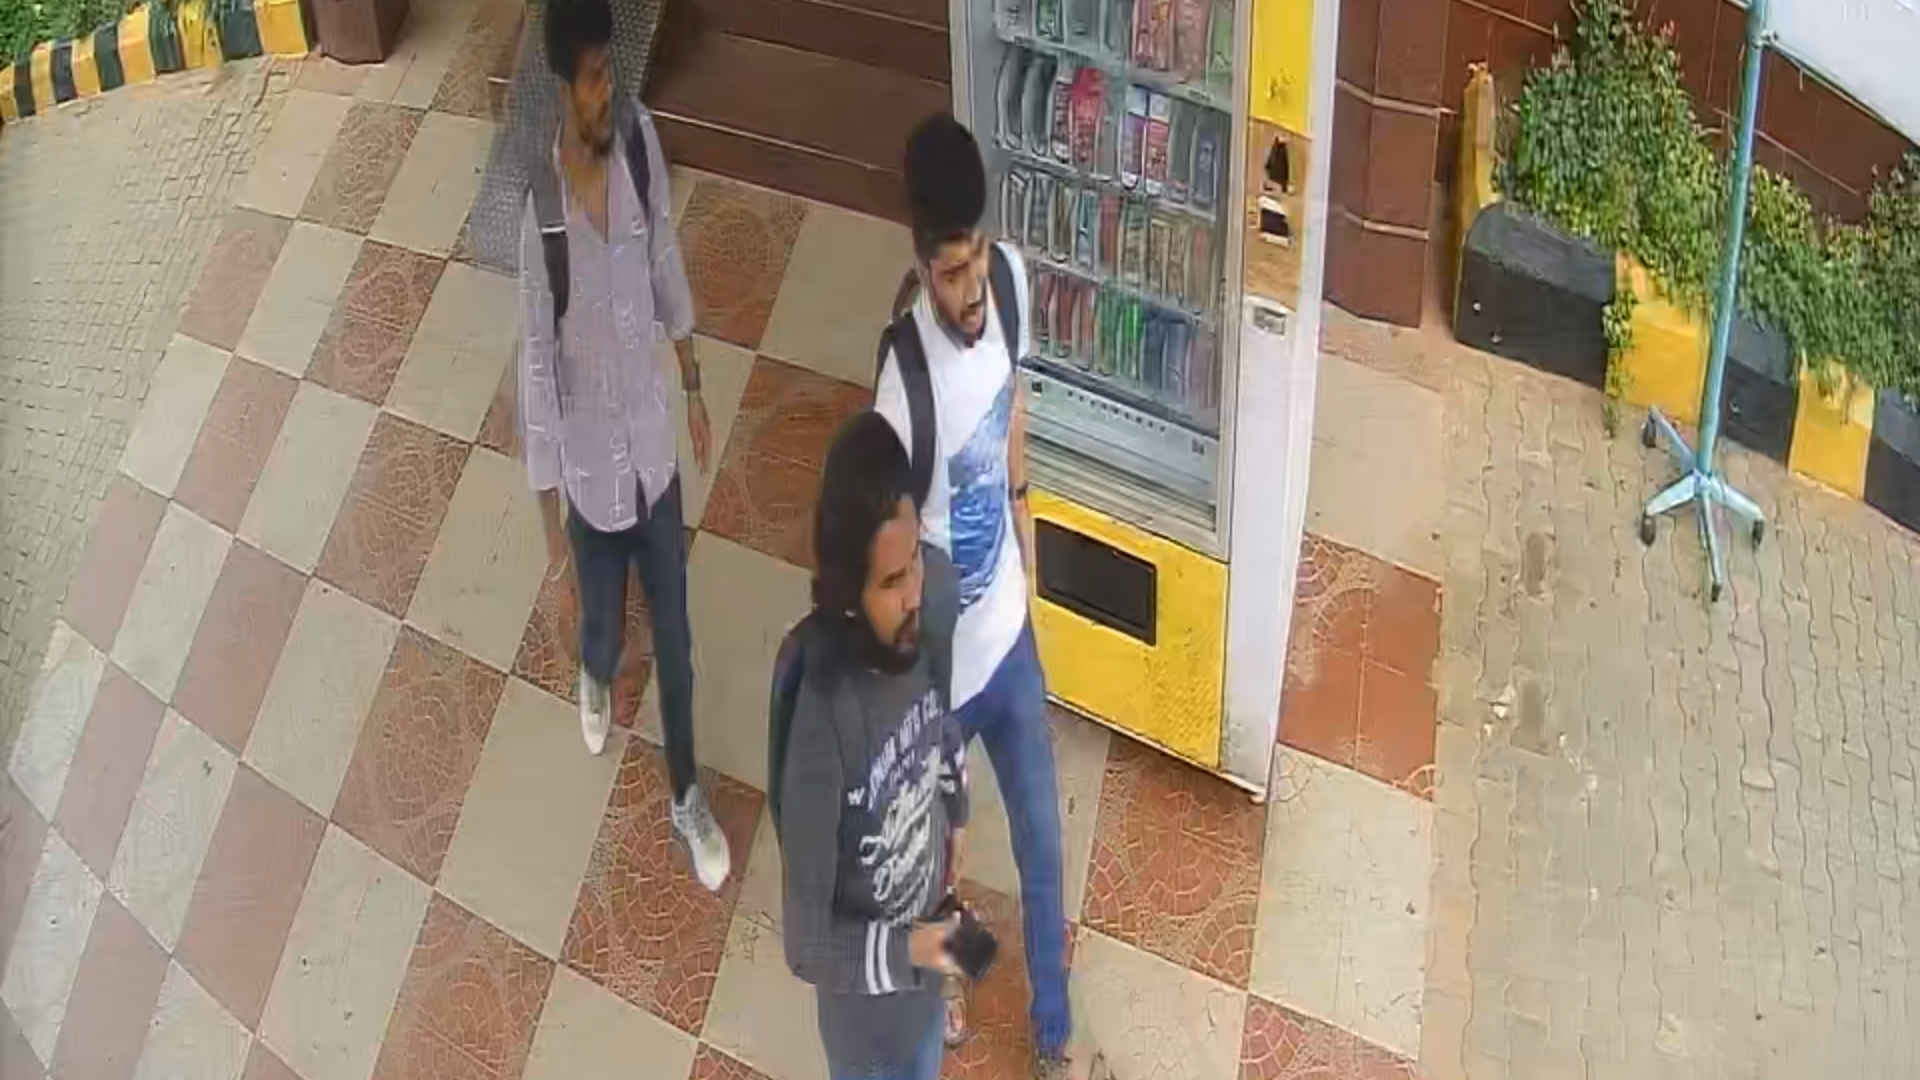intruder: (861, 112, 1105, 1080), (513, 1, 738, 887), (764, 419, 980, 1080)
